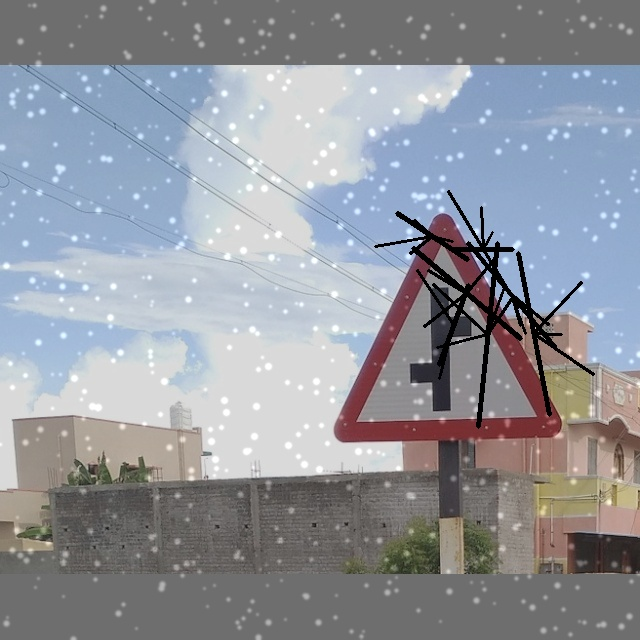Staggered_Intersection: (328, 213, 568, 451)
